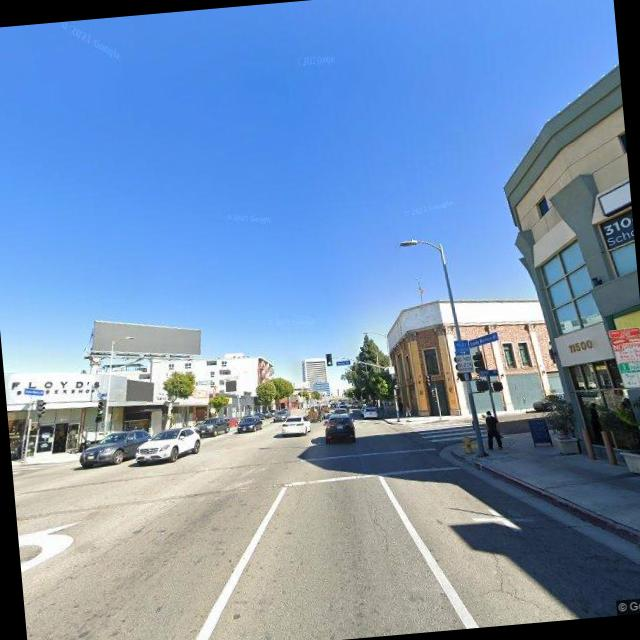crack: (478, 541, 546, 620), (359, 475, 393, 558)
